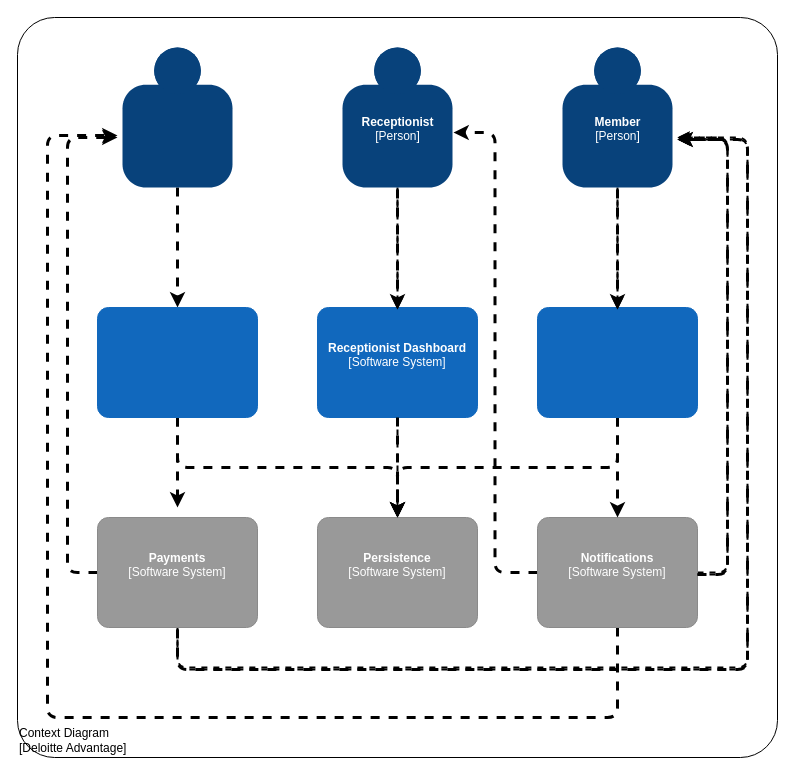
Some shapes in this 795 by 775 pixel diagram are drawn without their labels. The centre of each missing label's shape, as x and y in pixels:
"Instructor [Person]" goes at (x=177, y=117).
"Instructor Dashboard [Software System]" goes at (x=177, y=362).
"Member Dashboard [Software System]" goes at (x=617, y=362).
